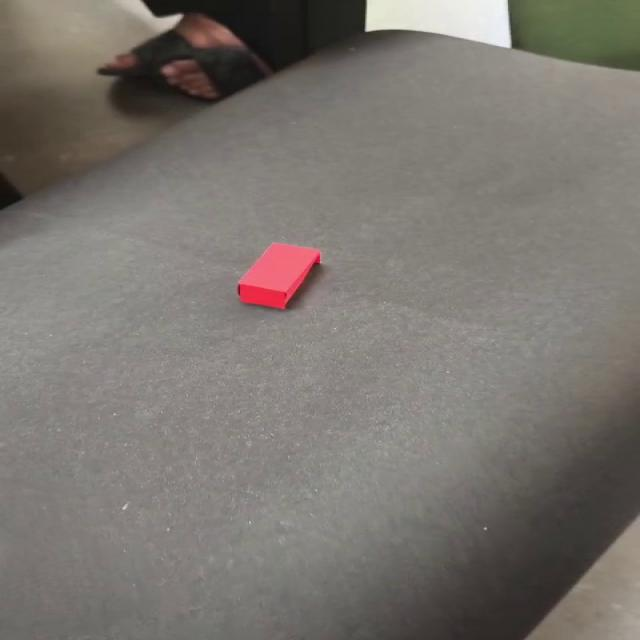red block: (236, 242, 321, 310)
